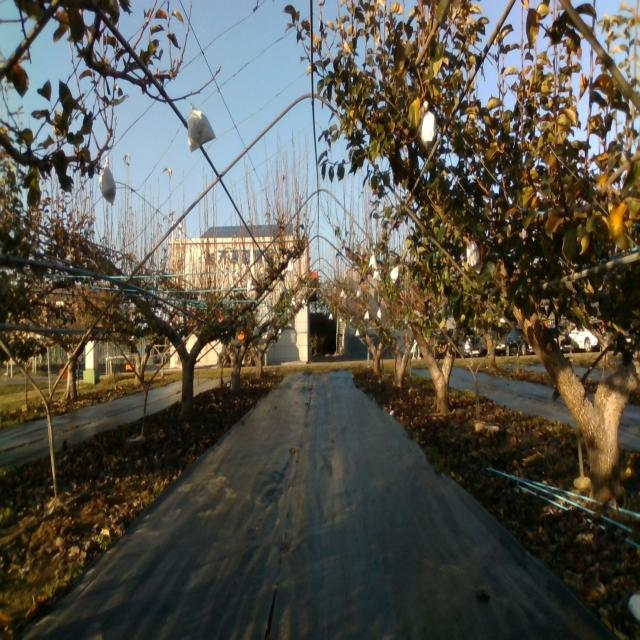pearbags: (187, 105, 215, 155), (98, 158, 116, 204), (420, 109, 436, 151), (466, 240, 480, 272)
